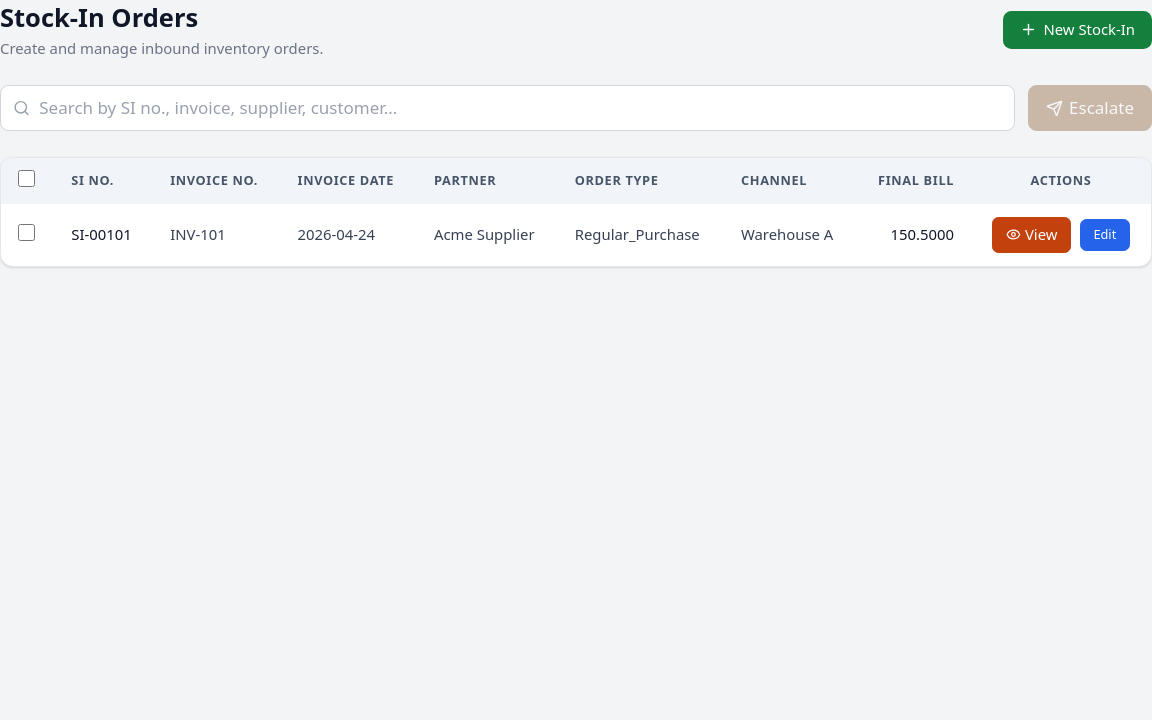
Test case: StockInListPage view action › opens the stock-in detail modal from the view action
The image size is (1152, 720).
Click the button "View" at (1032, 235), box x1=992 y1=217 x2=1071 y2=253
(page scrolled)
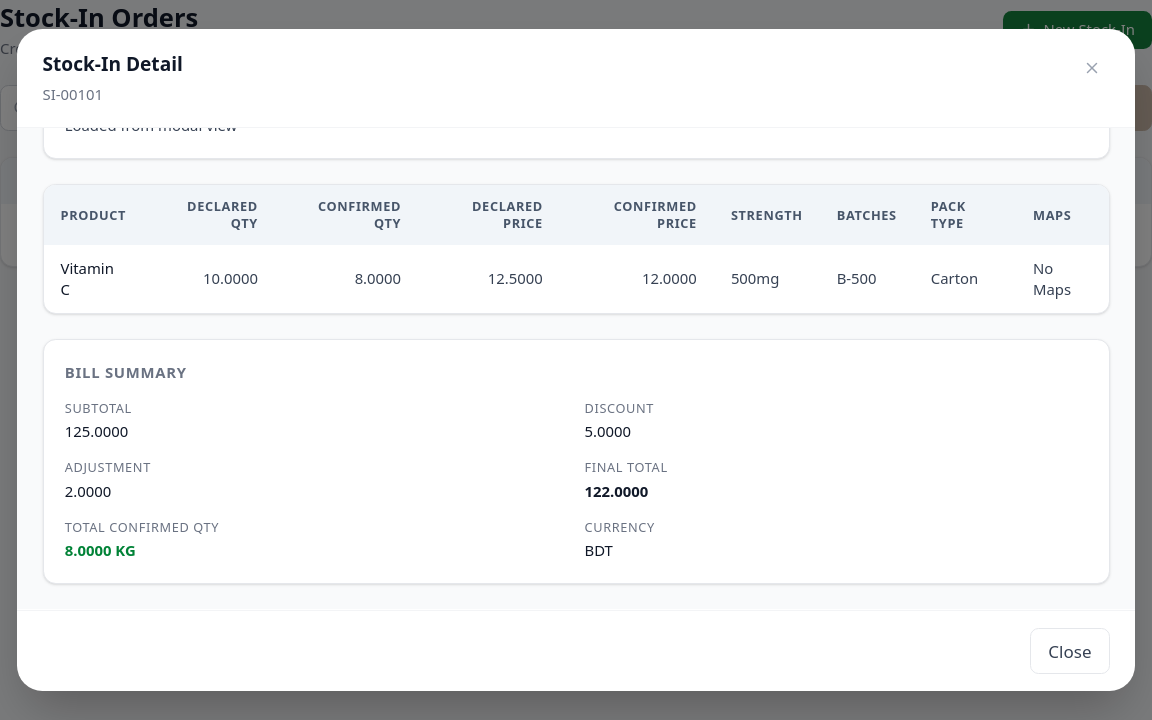
Expected: the heading "Stock-In Detail" is shown, x1=42 y1=50 x2=183 y2=80
Expected: the text "Vitamin C" is shown, x1=44 y1=245 x2=144 y2=313
Expected: the text "B-500" is shown, x1=820 y1=245 x2=914 y2=313
